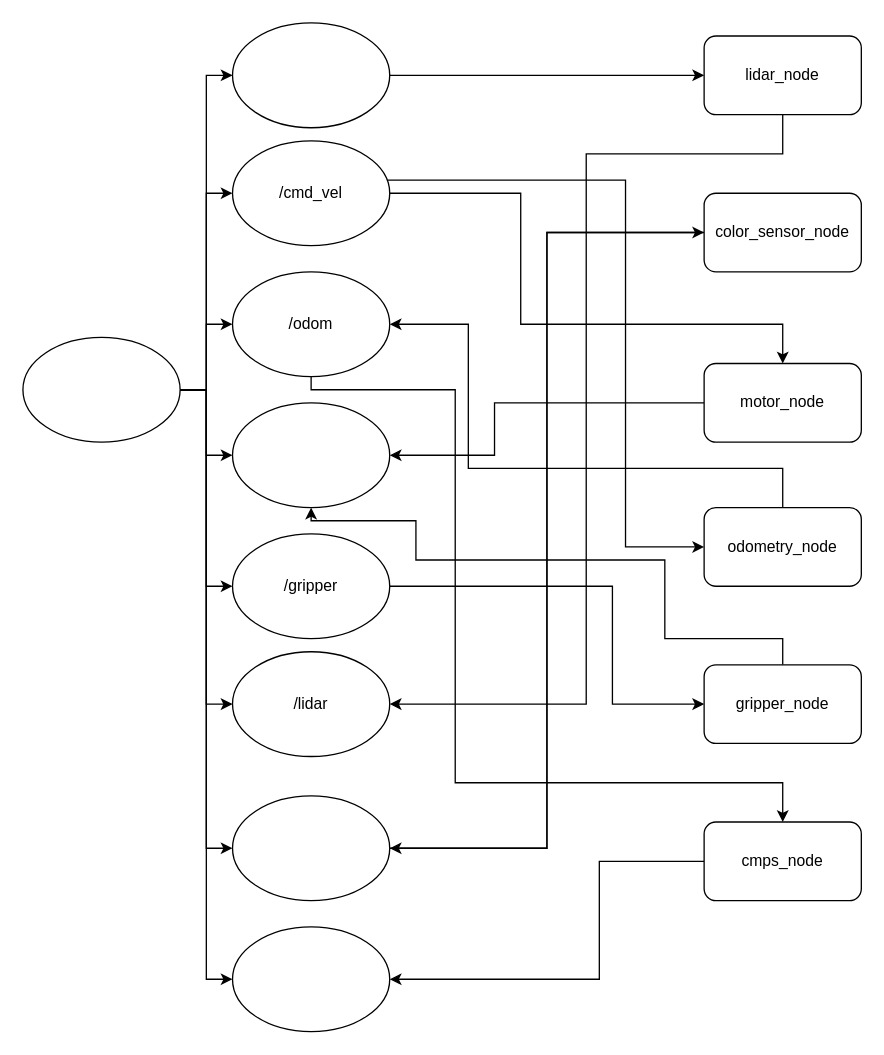
Image size: 884x1055. Some labels were removed from this diagram. The centre of each missing label's shape, as x and y in pixels:
"/cmps" belongs at point (310, 979).
"/color_sensor" belongs at point (310, 848).
"/joint_states" belongs at point (310, 455).
"/scan" belongs at point (310, 75).
"Hexapod Robot" belongs at point (101, 389).
